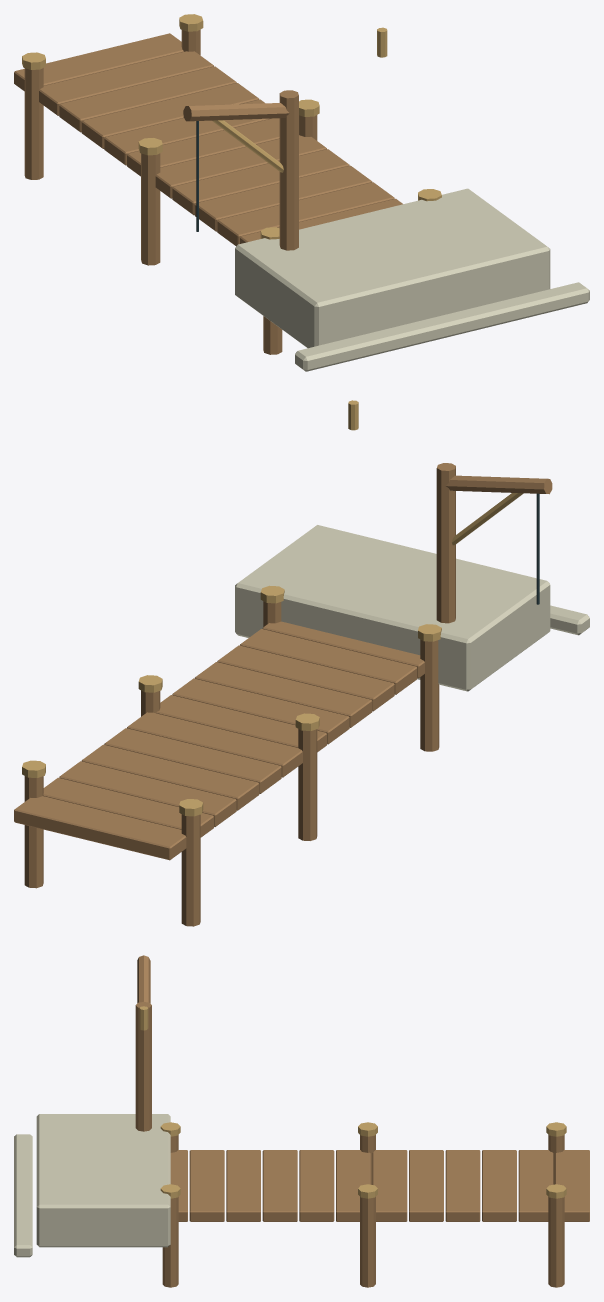
The model's file is level_10.glb.
The picture shows the model from 3 angles, top to bottom: view 1: azimuth 30°, elevation 25°; view 2: azimuth 150°, elevation 25°; view 3: azimuth 270°, elevation 25°; orthographic projection. The views are drawn at different scales.
Parts seen in each view (by area): view 1: dock — level 10; view 2: dock — level 10; view 3: dock — level 10.
Part boxes in pixels (x1,y1,x2,y2): dock — level 10: [14, 14, 589, 371]; dock — level 10: [14, 400, 589, 926]; dock — level 10: [14, 955, 589, 1287].
Size of the model in its own units: 4.53 by 4.14 by 8.6.
